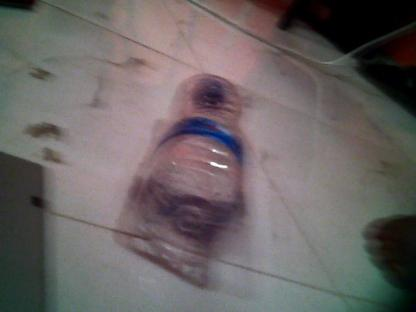Plastic Bottle: (119, 74, 254, 281)
